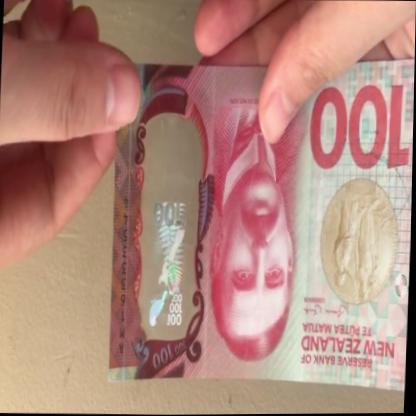100F: (142, 132, 195, 338)
